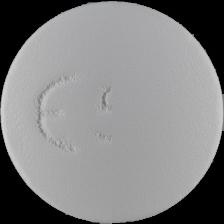60429-290: (0, 0, 224, 224)
